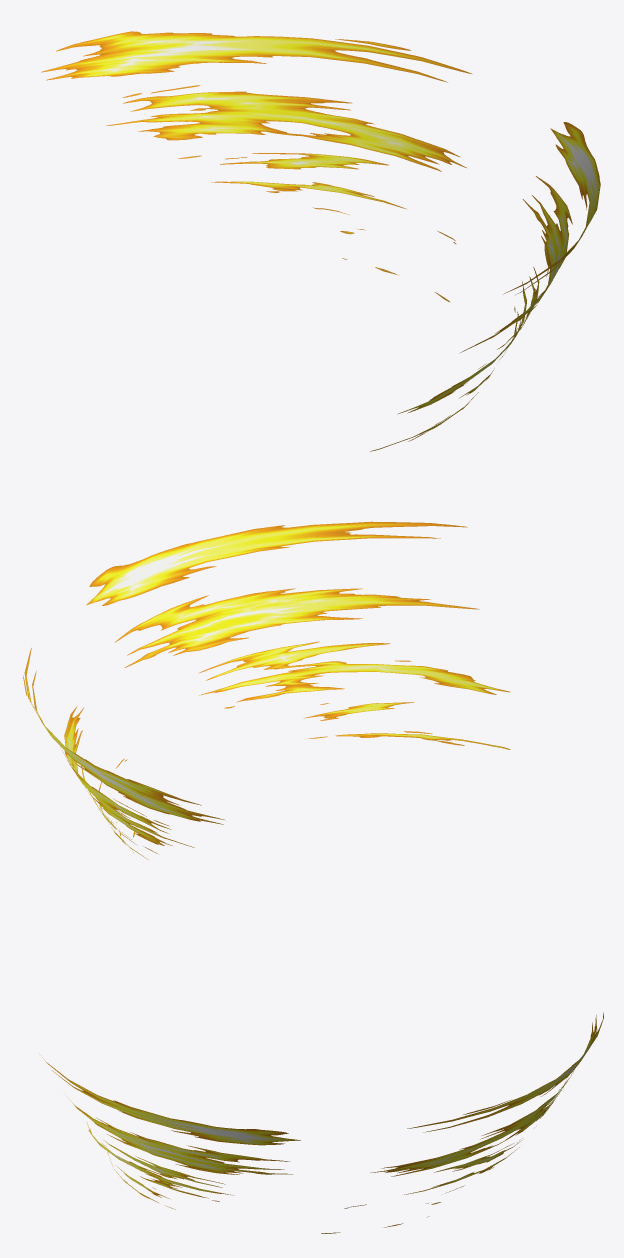
The model's file is shanxinghu_2.FBX.
3 views of the same model, one above another, from view 1: azimuth 30°, elevation 25°; view 2: azimuth 150°, elevation 25°; view 3: azimuth 270°, elevation 25° (orthographic). The views are drawn at different scales.
Parts seen in each view (by area): view 1: shanxinghu_2; view 2: shanxinghu_2; view 3: shanxinghu_2.
Boxes of the visible parts, x1=… form: shanxinghu_2: x1=41, y1=31, x2=600, y2=451; shanxinghu_2: x1=23, y1=521, x2=510, y2=859; shanxinghu_2: x1=42, y1=1012, x2=603, y2=1233.
Size of the model in its own units: 79.83 by 43.3 by 145.
